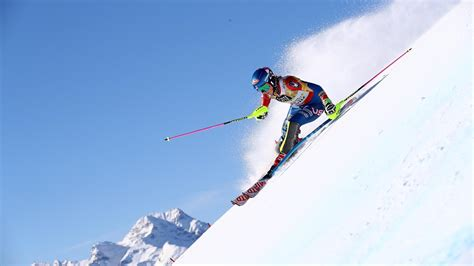skier: (161, 46, 413, 207)
